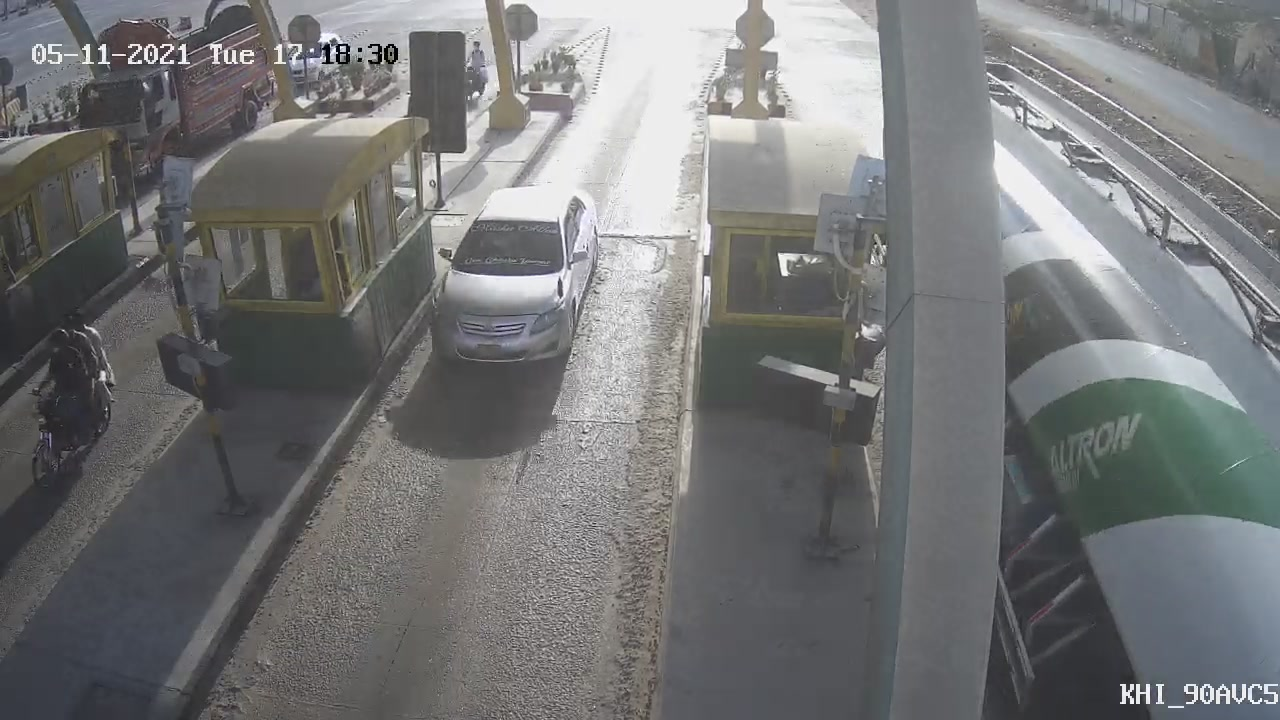F1: (403, 169, 613, 385)
